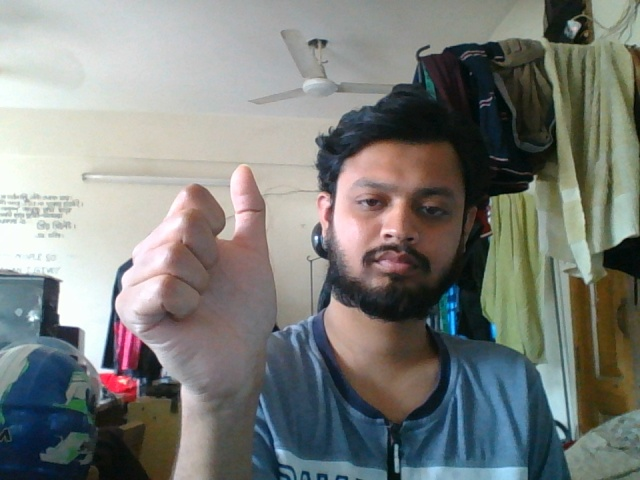dho: (117, 154, 289, 427)
